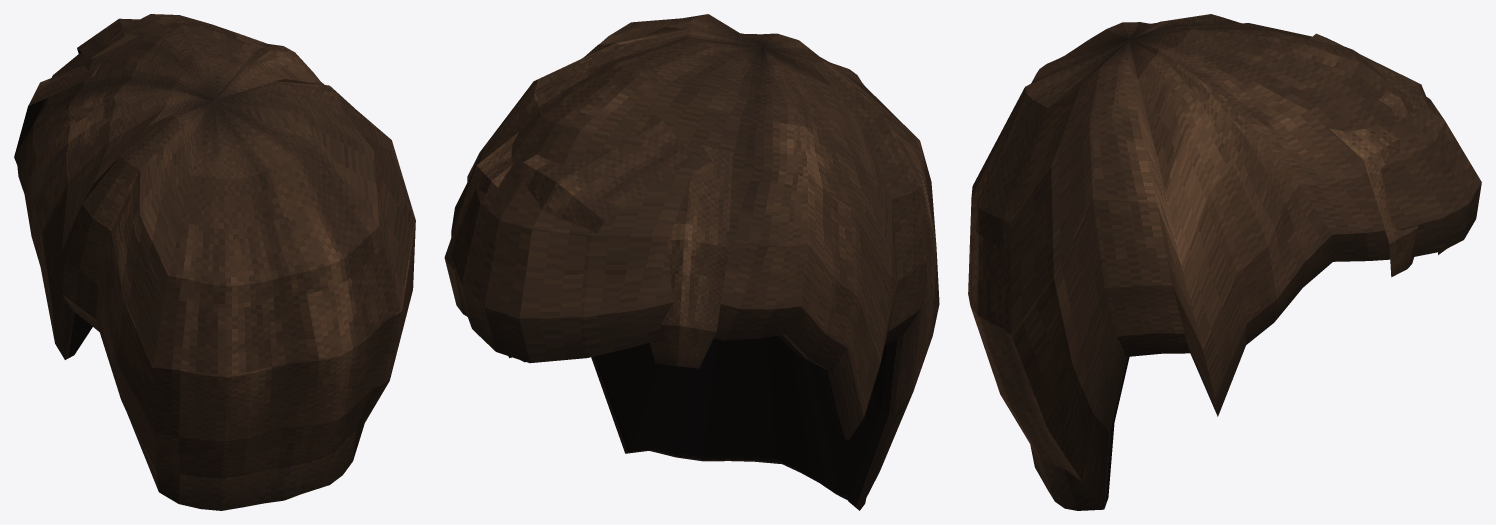
Rendered from CabeloCurtoMasculino.glb.
3 views of the same model, side by side, from view 1: azimuth 30°, elevation 25°; view 2: azimuth 150°, elevation 25°; view 3: azimuth 270°, elevation 25° (orthographic). The views are drawn at different scales.
Visible parts, largest first — view 1: CabeloCurtoMasculino.001; view 2: CabeloCurtoMasculino.001; view 3: CabeloCurtoMasculino.001.
Part boxes in pixels (bbox=[...]): CabeloCurtoMasculino.001: bbox=[14, 14, 415, 510]; CabeloCurtoMasculino.001: bbox=[444, 14, 939, 510]; CabeloCurtoMasculino.001: bbox=[968, 14, 1481, 510].
Bounding box in the file's own units: 0.1832 × 0.2231 × 0.2369.
Materials: 1 (1 with a texture image).
